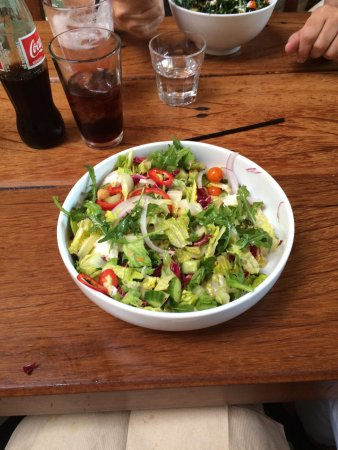chopped lettuce: (82, 159, 263, 300)
glass of water: (149, 36, 208, 106)
